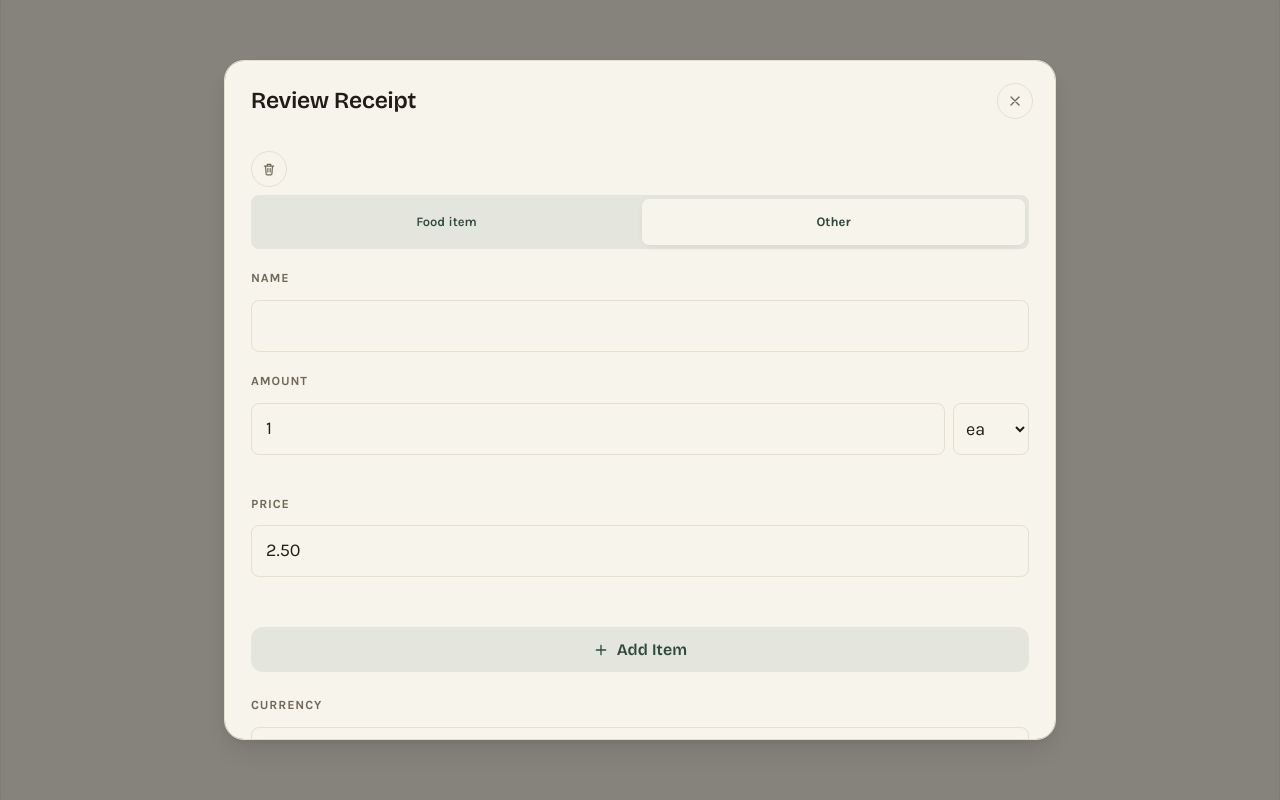
Scenario: ReceiptReviewModal — "Other" row also gets a search autocomplete › suggests existing "Other" inventory item names while typing
In the field labelled "Name": [640, 326] box [251, 300, 1029, 352], type "garb"
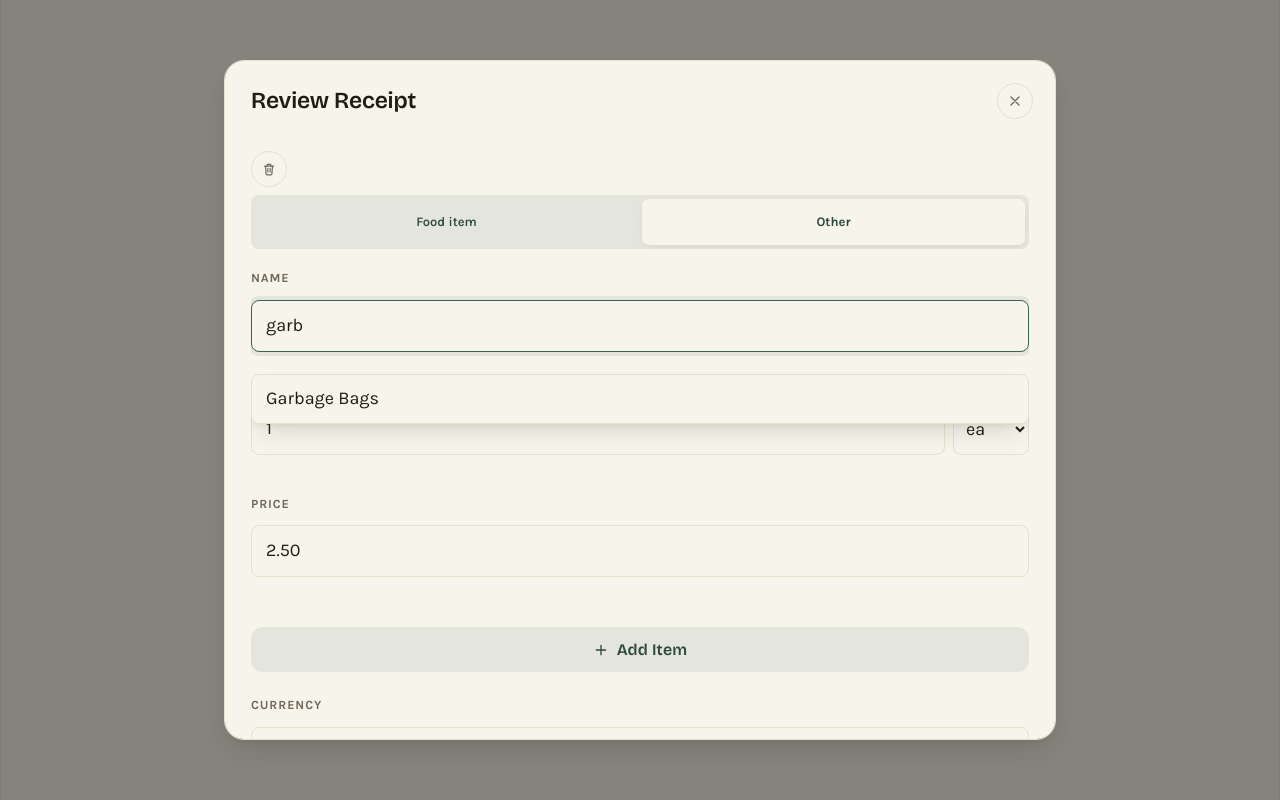
Expected: the button "Garbage Bags" is shown, [252, 375, 1028, 423]
